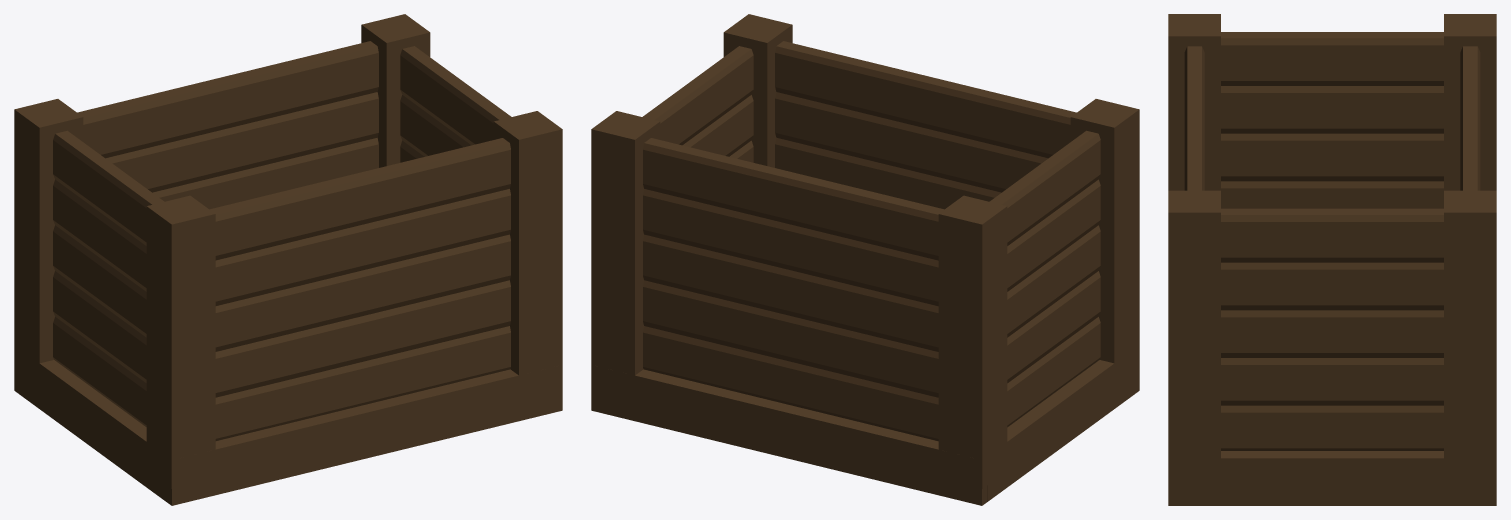
The picture shows the model from 3 angles, left to right: view 1: azimuth 30°, elevation 25°; view 2: azimuth 150°, elevation 25°; view 3: azimuth 270°, elevation 25°; orthographic projection. The views are drawn at different scales.
Visible parts, largest first — view 1: Cube.027; view 2: Cube.027; view 3: Cube.027.
Boxes of the visible parts, bbox=[...] form: Cube.027: bbox=[14, 14, 562, 505]; Cube.027: bbox=[591, 14, 1139, 505]; Cube.027: bbox=[1168, 14, 1496, 505].
Bounding box in the file's own units: 225 × 155 × 157.
